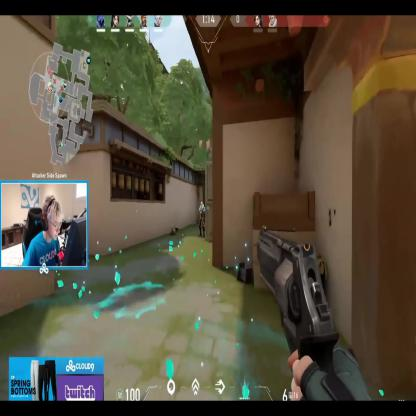enemy: (198, 201, 205, 238)
enemy_head: (201, 202, 203, 207)
